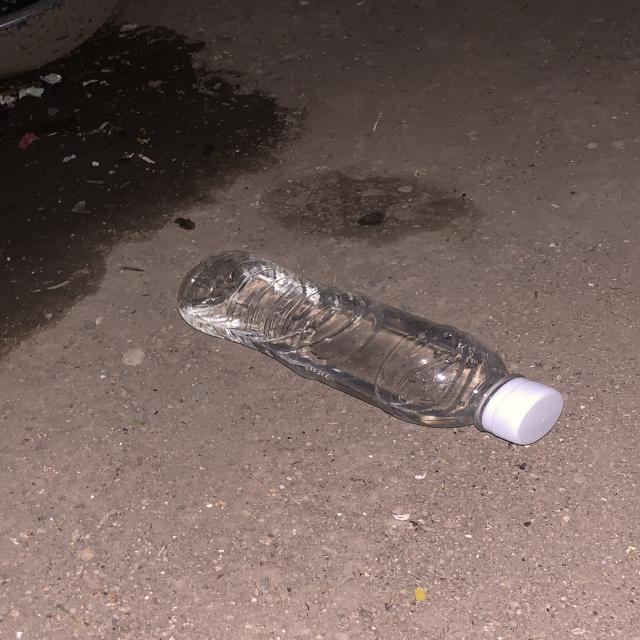Bottle: (178, 251, 563, 445)
